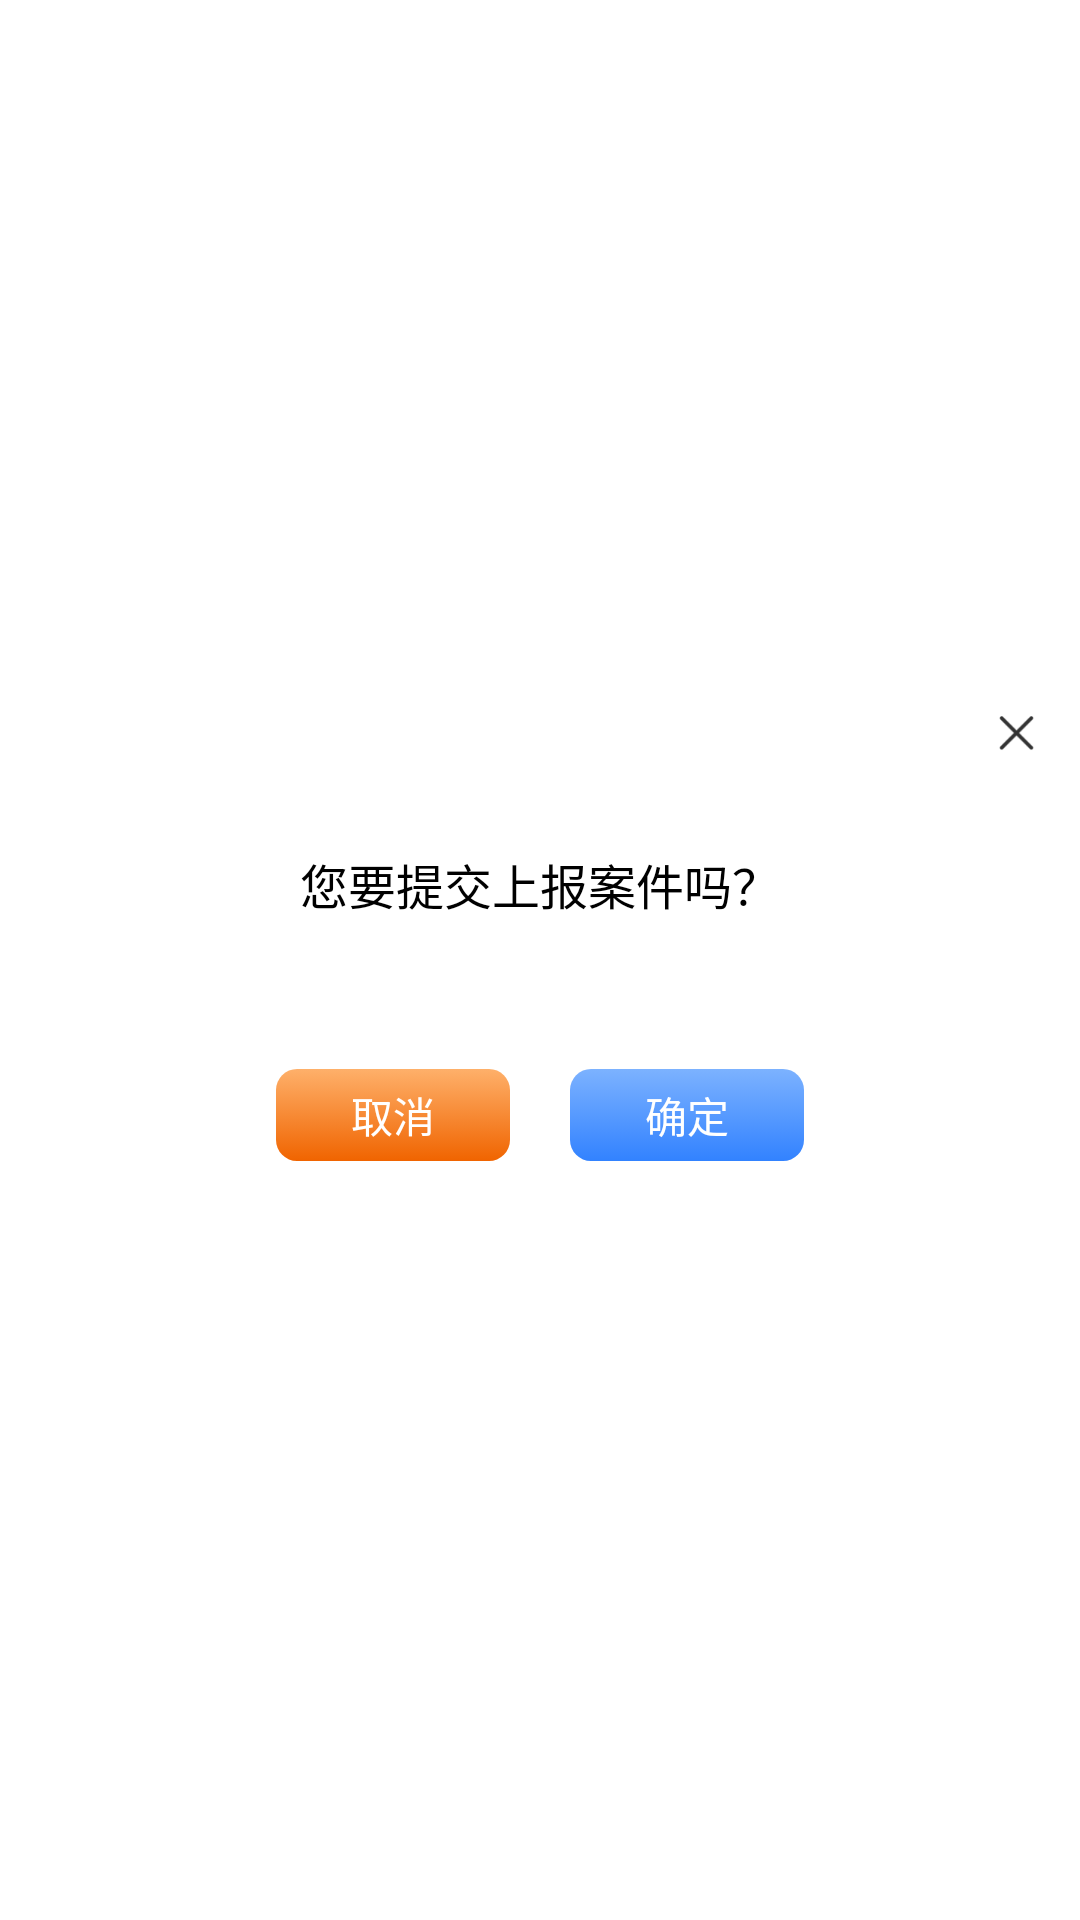

Named icons in this screenshot (1080*1920) and their centers, (x=x, y=y):
close: (x=1016, y=733)
